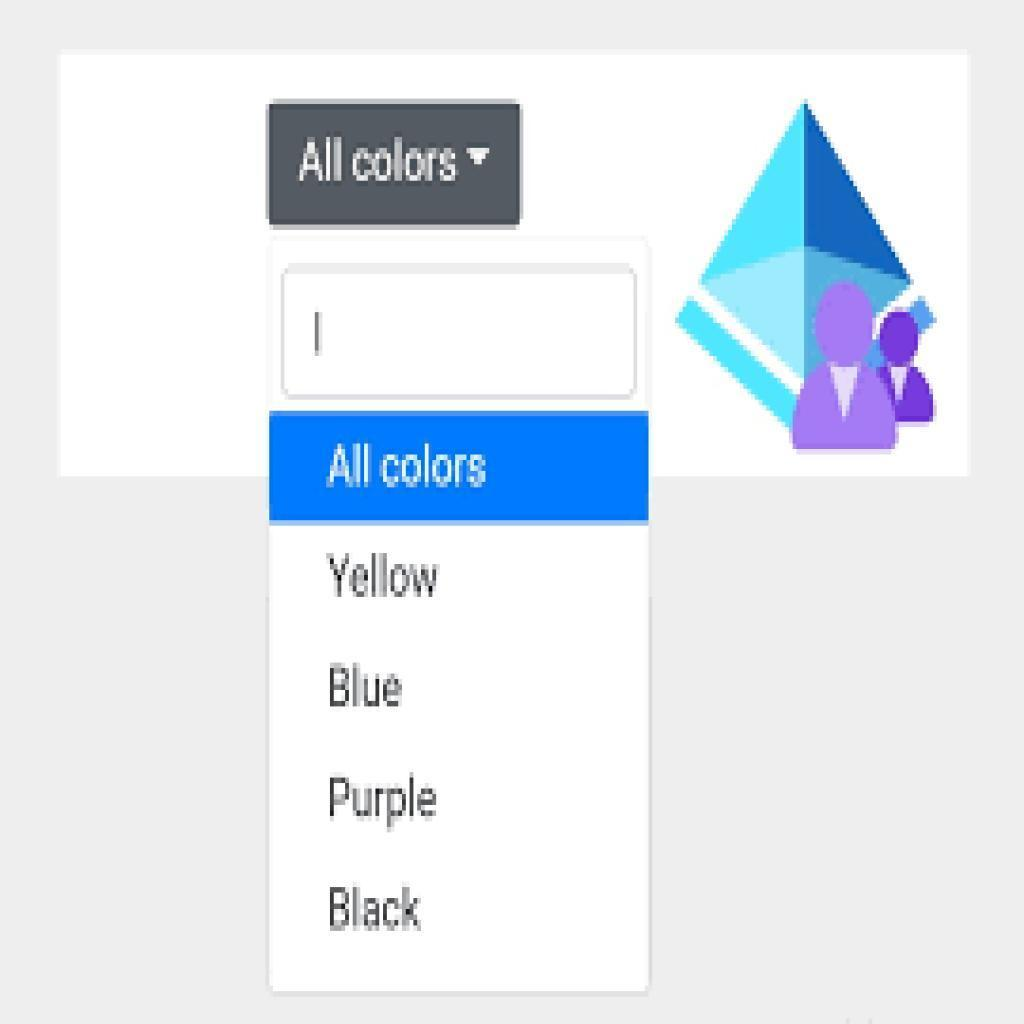button: (268, 410, 652, 526)
dropdown: (269, 102, 522, 225)
icon: (674, 98, 952, 456)
input: (281, 267, 635, 396)
